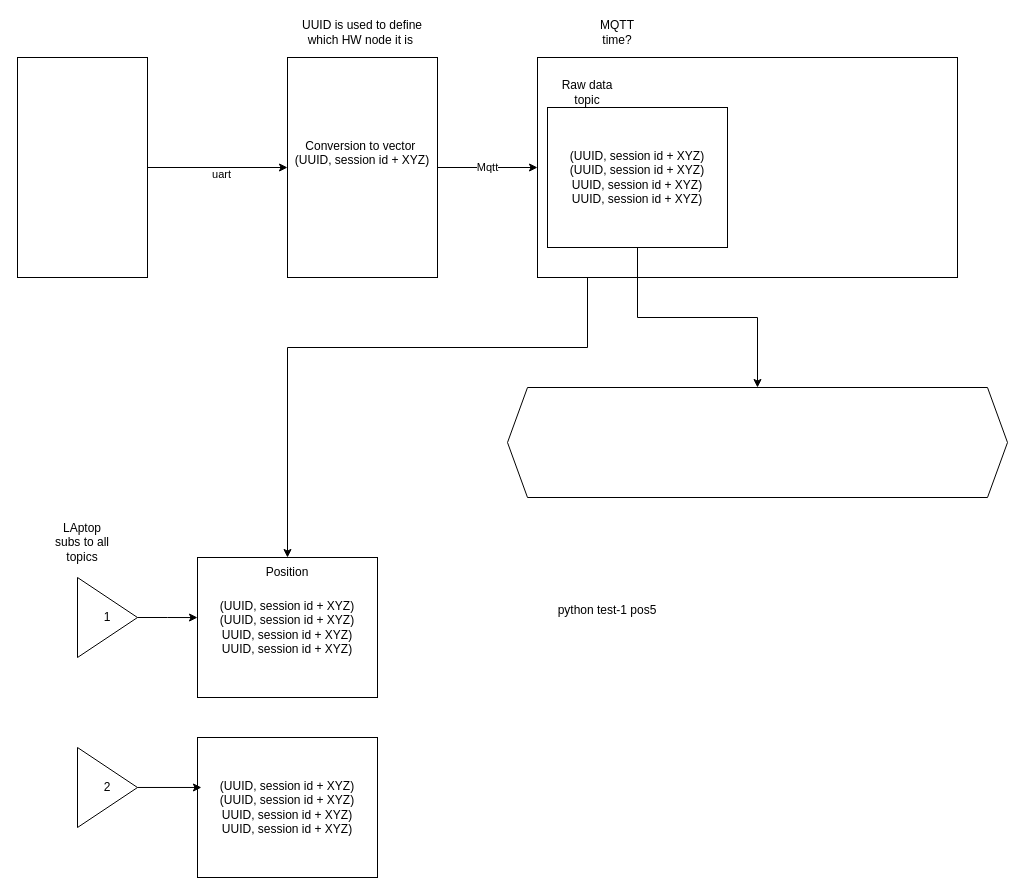
Some shapes in this 1025 by 895 pixel diagram are drawn without their labels. The centre of each missing label's shape, as x and y in pixels:
azimuthg dist etc UUID Token Session ID Name: the point at 82,167
Calculations: the point at 757,442
